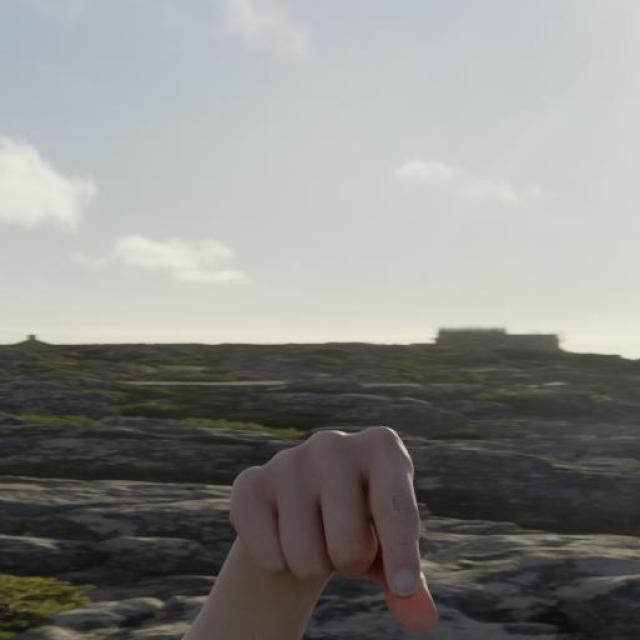Q: (221, 420, 441, 640)
